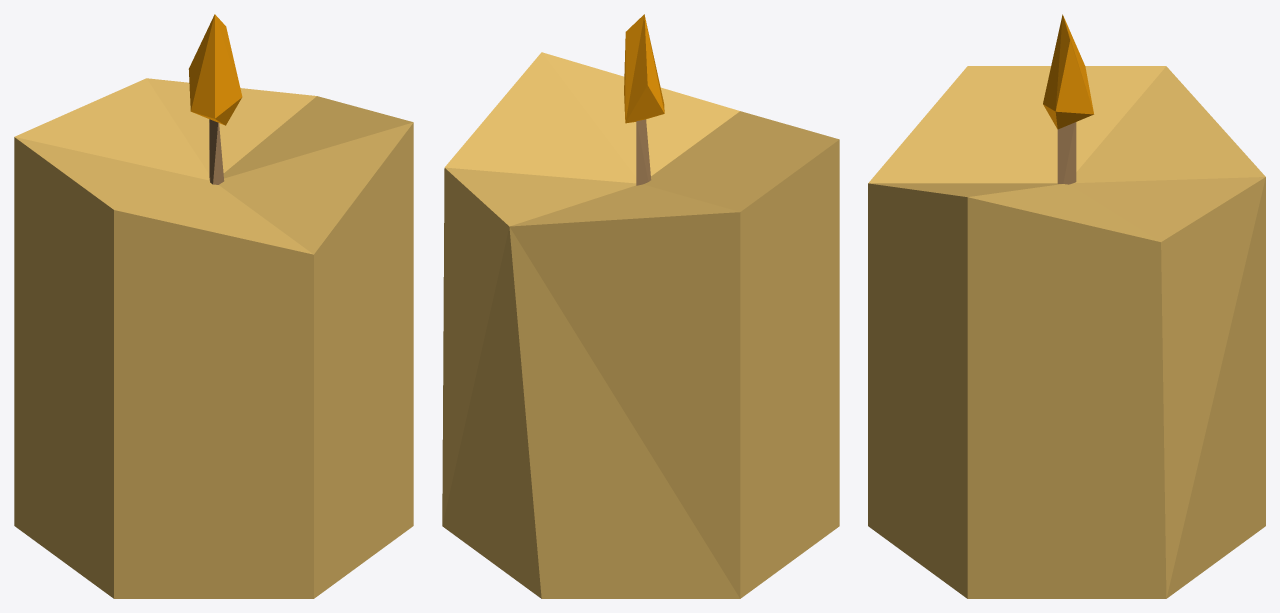
The model's file is Candle_01.fbx.
3 renders of one model, left to right at view 1: azimuth 30°, elevation 25°; view 2: azimuth 150°, elevation 25°; view 3: azimuth 270°, elevation 25°, orthographic.
Visible parts, largest first — view 1: Candle_01; view 2: Candle_01; view 3: Candle_01.
Part boxes in pixels (x1=…): Candle_01: x1=14, y1=14, x2=413, y2=598; Candle_01: x1=442, y1=14, x2=839, y2=598; Candle_01: x1=868, y1=14, x2=1265, y2=598.
Size of the model in its own units: 0.1114 by 0.1822 by 0.1284.
